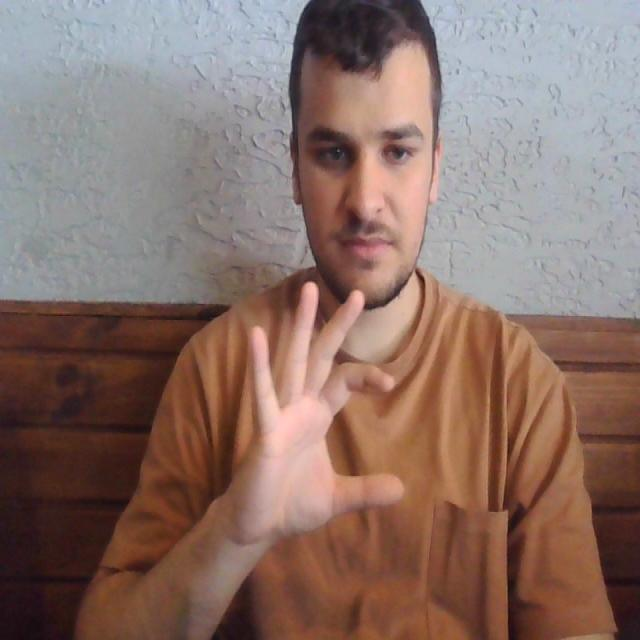Tuvalet: (214, 270, 428, 558)
